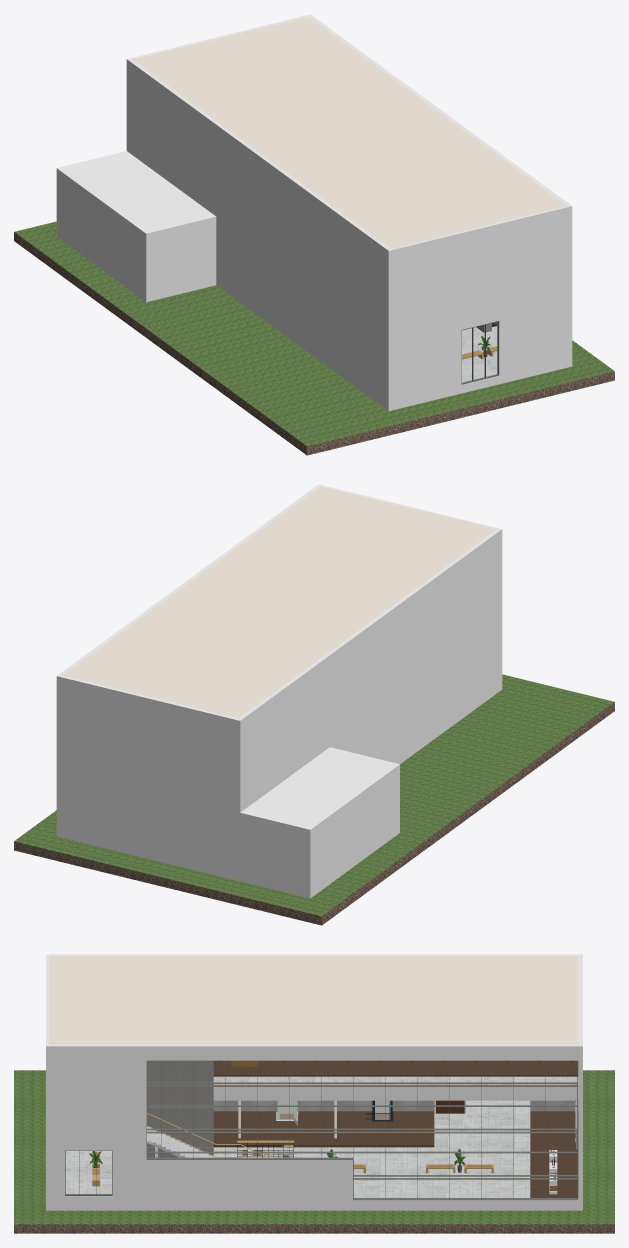
File: showroom.glb
The picture shows the model from 3 angles, top to bottom: view 1: azimuth 30°, elevation 25°; view 2: azimuth 150°, elevation 25°; view 3: azimuth 270°, elevation 25°; orthographic projection. The views are drawn at different scales.
Visible parts, largest first — view 1: Mesh1__auto__0, Mesh431_Vegetation_Juniper_0, Mesh431_Small_Aggregate_0, Mesh6__21_0; view 2: Mesh1__auto__0, Mesh431_Vegetation_Juniper_0, Mesh431_Small_Aggregate_0; view 3: Mesh1__auto__0, Mesh6__21_0, Mesh431_Vegetation_Juniper_0, Mesh6__Carpet_Berber_Multi_1_0, Mesh1590_Color_A08_0, Mesh431_Small_Aggregate_0, Mesh36_Granite_Light_Gray_0, Mesh5__1_0, Mesh91_Wood_Bamboo_0.
Part boxes in pixels (x1,y1,x2,y2): Mesh1__auto__0: (56, 14, 572, 410); Mesh431_Vegetation_Juniper_0: (14, 221, 614, 446); Mesh431_Small_Aggregate_0: (14, 232, 614, 455); Mesh6__21_0: (462, 326, 497, 382); Mesh1__auto__0: (56, 484, 502, 898); Mesh431_Vegetation_Juniper_0: (14, 674, 614, 916); Mesh431_Small_Aggregate_0: (14, 702, 614, 925); Mesh1__auto__0: (46, 954, 582, 1210); Mesh6__21_0: (65, 1076, 578, 1197); Mesh431_Vegetation_Juniper_0: (14, 1070, 614, 1224); Mesh6__Carpet_Berber_Multi_1_0: (213, 1061, 578, 1198); Mesh1590_Color_A08_0: (65, 1060, 577, 1200); Mesh431_Small_Aggregate_0: (14, 1224, 614, 1233); Mesh36_Granite_Light_Gray_0: (147, 1061, 213, 1157); Mesh5__1_0: (213, 1100, 578, 1111); Mesh91_Wood_Bamboo_0: (214, 1084, 578, 1085).
Size of the model in its own units: 22799 by 12000 by 37600.
Materials: 49 (44 with a texture image).
